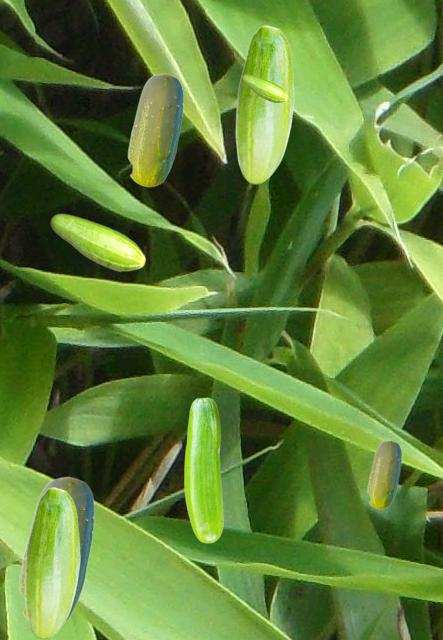cucumber: (18, 476, 93, 623), (235, 25, 293, 183), (24, 487, 79, 638), (127, 73, 182, 186), (184, 397, 222, 542), (50, 213, 145, 271), (367, 440, 400, 508), (241, 74, 287, 102)
